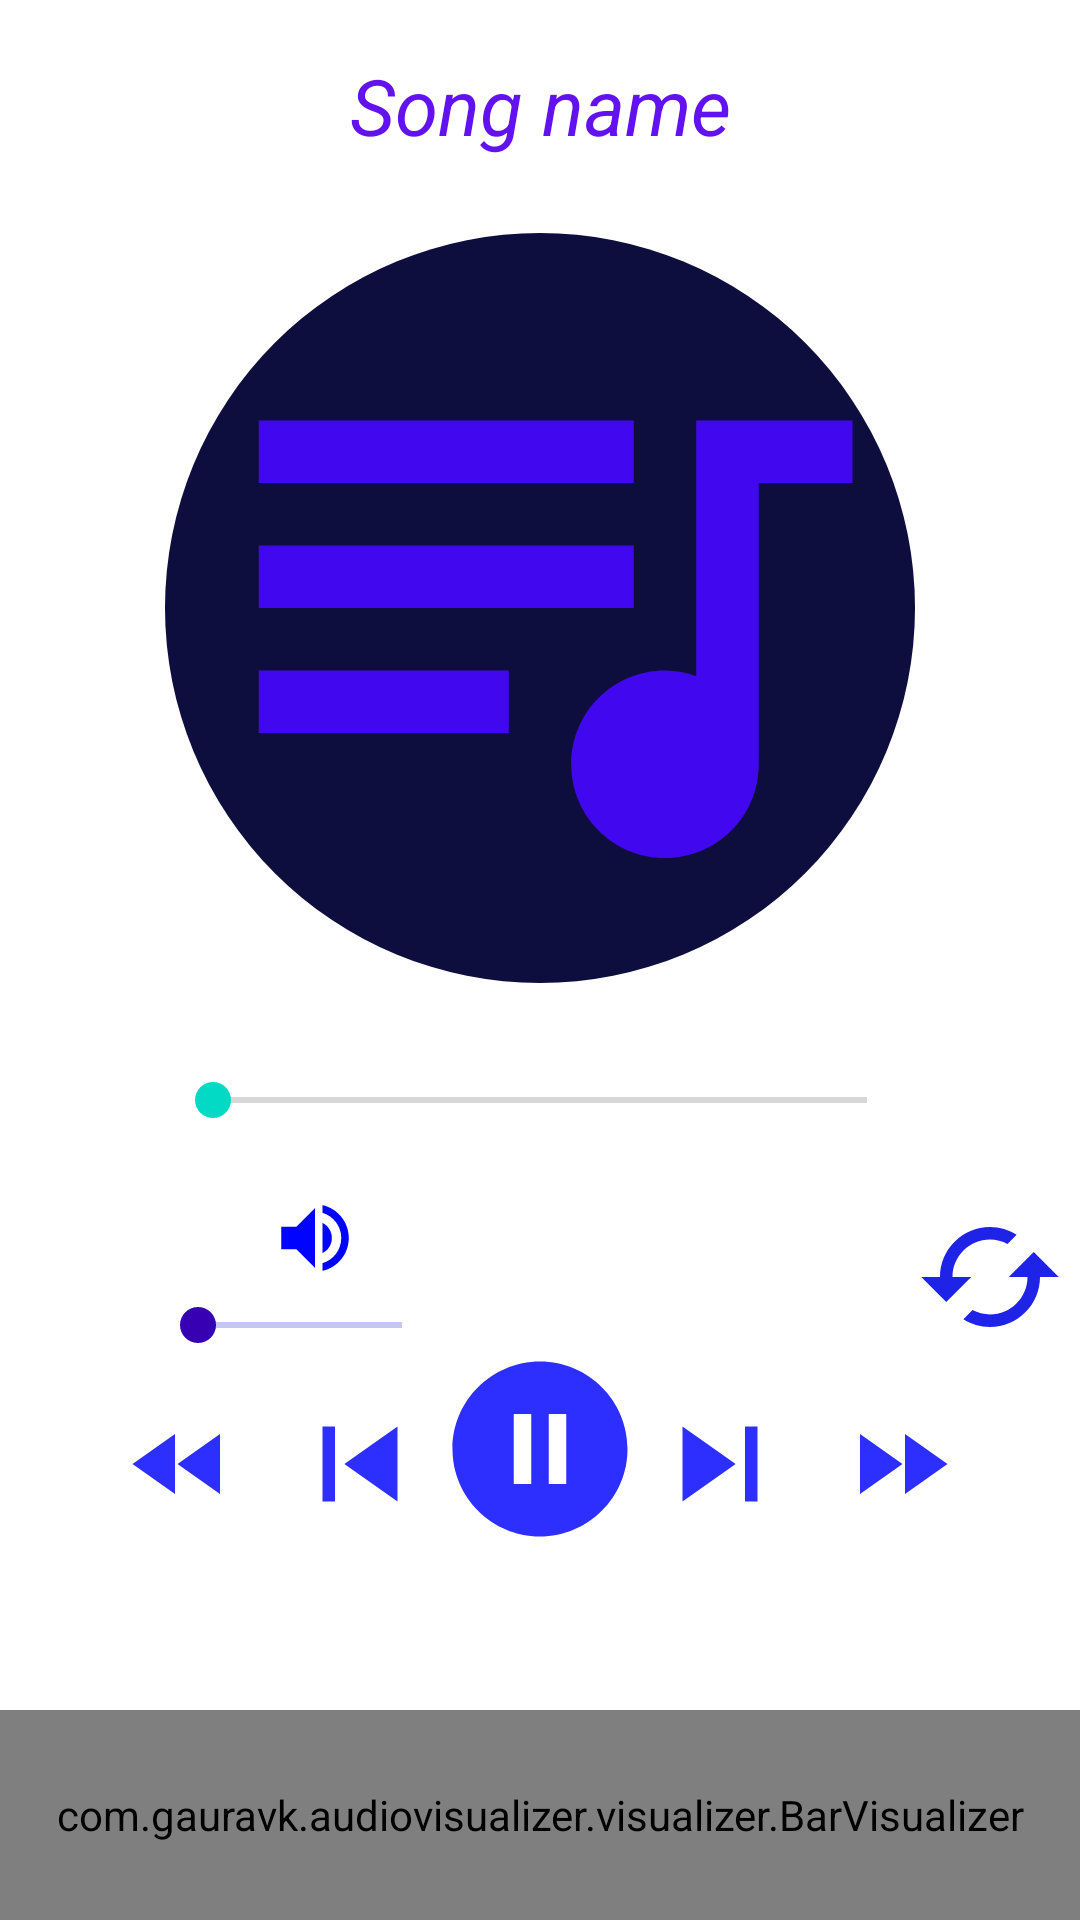

Named icons in this screenshot (1080 × 1920) and their bounding boxes, (left=x1, top=y1, right=x2, bottom=y2):
cached: (left=921, top=1227, right=1059, bottom=1327)
fast forward: (left=860, top=1434, right=947, bottom=1494)
fast rewind: (left=133, top=1434, right=220, bottom=1494)
pause: (left=452, top=1361, right=628, bottom=1537)
skip next: (left=682, top=1426, right=758, bottom=1502)
skip previous: (left=322, top=1426, right=398, bottom=1502)
volume: (left=281, top=1205, right=349, bottom=1271)
